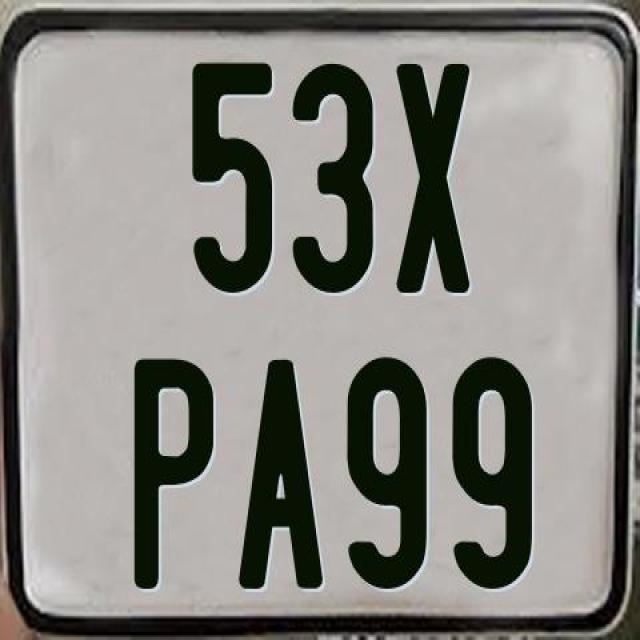3: (290, 62, 374, 301)
5: (189, 59, 271, 293)
9: (342, 352, 430, 594), (452, 357, 540, 589)
A: (236, 358, 328, 594)
P: (131, 357, 217, 590)
X: (394, 61, 469, 296)
